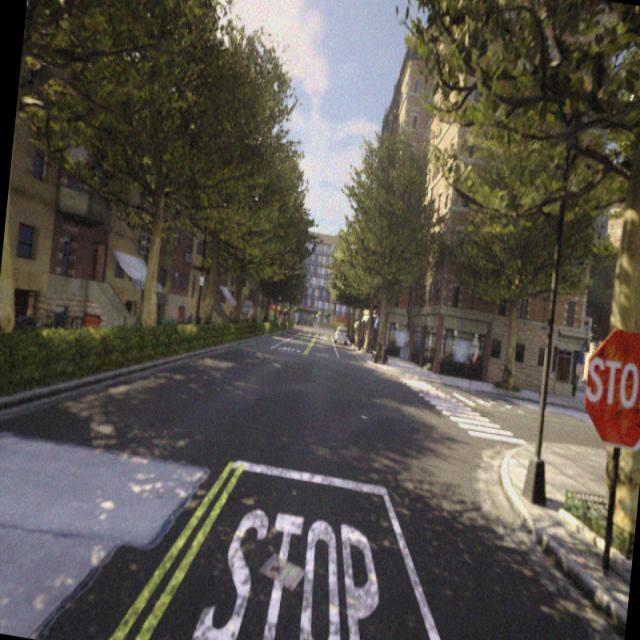stop sign: (581, 324, 638, 451), (586, 355, 638, 410)
